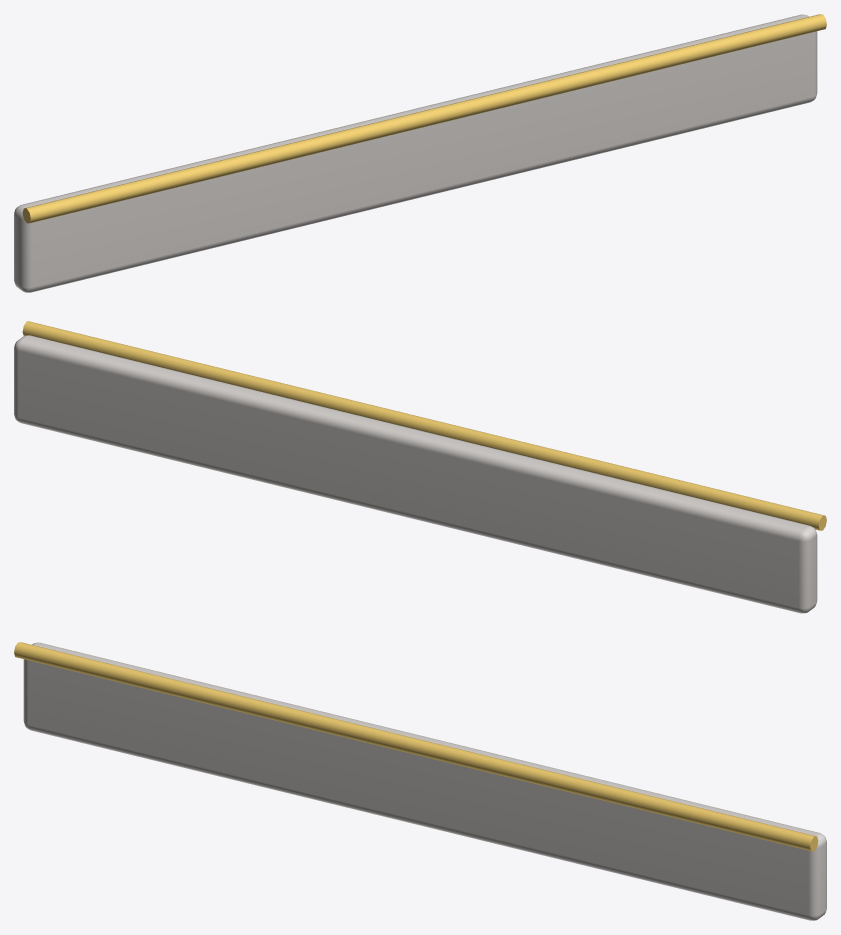
The model's file is baseboard_2m.glb.
3 views of the same model, one above another, from view 1: azimuth 30°, elevation 25°; view 2: azimuth 150°, elevation 25°; view 3: azimuth 330°, elevation 25° (orthographic).
Visible parts, largest first — view 1: baseboard_2m; view 2: baseboard_2m; view 3: baseboard_2m.
Part boxes in pixels (x1,y1,x2,y2): baseboard_2m: [14, 14, 826, 292]; baseboard_2m: [14, 321, 826, 613]; baseboard_2m: [14, 642, 826, 920].
Size of the model in its own units: 2 by 0.218 by 0.088.
